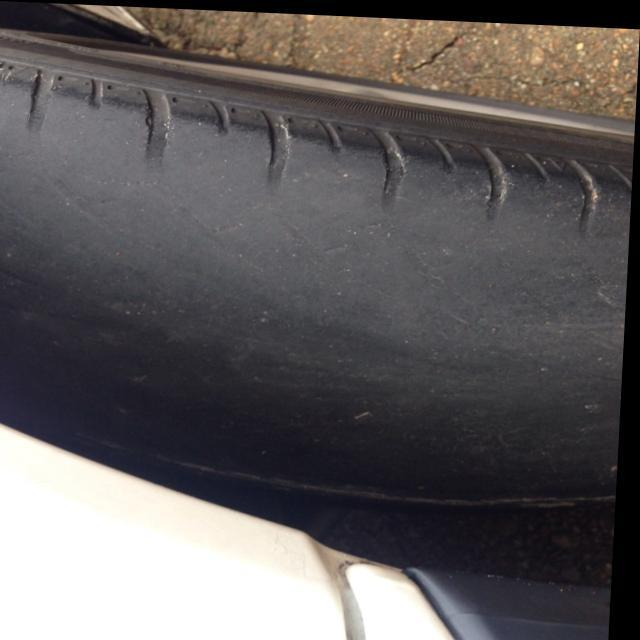Flat spots: (0, 148, 640, 377)
